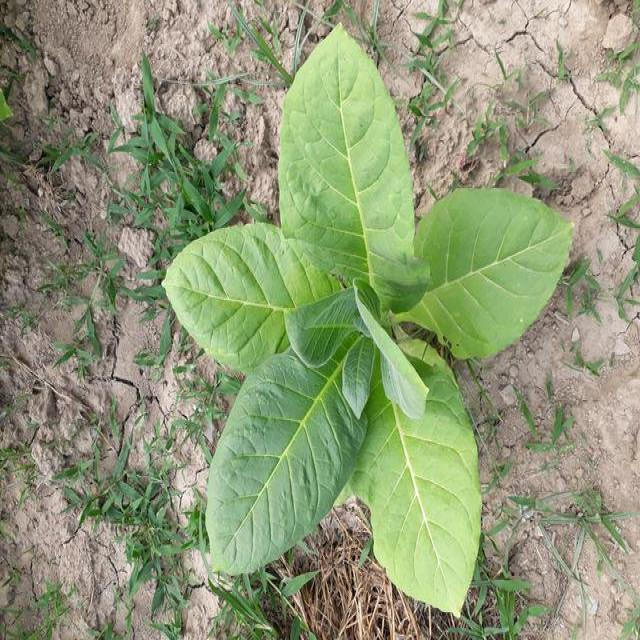crop: (158, 18, 575, 623)
